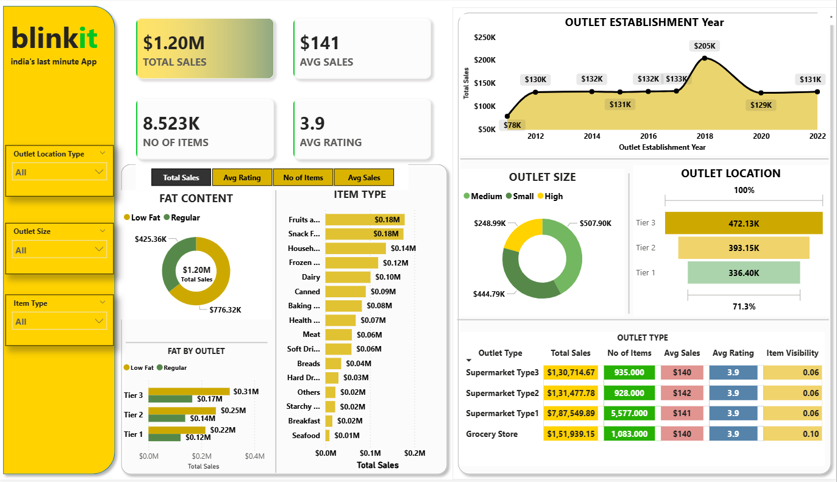

The page's visual inventory and layout, read from the dashboard file:
{"tool":"powerbi","page":{"name":"Page 1","canvas":[1400,800],"ordinal":0},"visuals":[{"type":"shape","box":[0,0,204.8,800],"z":0},{"type":"textbox","box":[16.5,22.9,161.5,78.9],"z":1000},{"type":"textbox","box":[252.5,74,205,696],"z":2000},{"type":"textbox","box":[505.5,74,205,696],"z":3000},{"type":"textbox","box":[16.5,87.8,161.5,29.3],"z":4000},{"type":"cardVisual","fields":{"Data":["BlinkIT Grocery Data.Total Sales","BlinkIT Grocery Data.Avg Sales","BlinkIT Grocery Data.No of Items","BlinkIT Grocery Data.Avg Rating"]},"box":[202.2,0,552,295.1],"z":5000},{"type":"shape","box":[197.1,264.5,562.1,535.4],"z":6000},{"type":"donutChart","title":"FAT CONTENT","fields":{"Y":["BlinkIT Grocery Data.Total Sales"],"Category":["BlinkIT Grocery Data.Item Fat Content"]},"box":[204.8,316.7,253.1,216.2],"z":7000},{"type":"slicer","fields":{"Values":["Metrix.Metrix"]},"box":[230.2,273.4,455.3,43.2],"z":8000},{"type":"cardVisual","fields":{"Data":["BlinkIT Grocery Data.Total Sales"]},"box":[288.7,424.8,87.8,62.3],"z":9000},{"type":"clusteredBarChart","title":"FAT BY OUTLET","fields":{"Y":["BlinkIT Grocery Data.Total Sales"],"Category":["BlinkIT Grocery Data.Outlet Location Type"],"Series":["BlinkIT Grocery Data.Item Fat Content"]},"box":[204.8,576.1,253.1,212.4],"z":10000},{"type":"shape","box":[213.7,566,236.6,10.2],"z":11000},{"type":"shape","box":[457.9,316.7,12.7,471.8],"z":12000},{"type":"barChart","title":"ITEM TYPE","fields":{"Y":["BlinkIT Grocery Data.Total Sales"],"Category":["BlinkIT Grocery Data.Item Type"]},"box":[464.2,311.6,281.1,476.9],"z":13000},{"type":"shape","box":[759.3,11.4,641,788.5],"z":14000},{"type":"lineChart","title":"OUTLET ESTABLISHMENT Year","fields":{"Category":["BlinkIT Grocery Data.Outlet Establishment Year"],"Y":["BlinkIT Grocery Data.Total Sales"]},"box":[772,22.9,615.6,235.3],"z":15000},{"type":"shape","box":[766.9,526.5,620.6,12.7],"z":16000},{"type":"donutChart","title":"OUTLET SIZE","fields":{"Y":["BlinkIT Grocery Data.Total Sales"],"Category":["BlinkIT Grocery Data.Outlet Size"]},"box":[772,281.1,274.7,245.5],"z":17000},{"type":"shape","box":[1046.7,288.7,14,234],"z":18000},{"type":"funnel","title":"OUTLET LOCATION","fields":{"Y":["Sum(BlinkIT Grocery Data.Sales)"],"Category":["BlinkIT Grocery Data.Outlet Location Type"]},"box":[1060.7,274.7,326.9,251.8],"z":19000},{"type":"pivotTable","title":"OUTLET TYPE","fields":{"Rows":["BlinkIT Grocery Data.Outlet Type"],"Values":["BlinkIT Grocery Data.Total Sales","BlinkIT Grocery Data.No of Items","BlinkIT Grocery Data.Avg Sales","BlinkIT Grocery Data.Avg Rating","Avg(BlinkIT Grocery Data.Item Visibility)"]},"box":[772,553.2,609.2,223.8],"z":21000},{"type":"slicer","fields":{"Values":["BlinkIT Grocery Data.Outlet Location Type"]},"box":[12.7,241.6,180.6,85.2],"z":22000},{"type":"shape","box":[772,258.2,615.6,12.7],"z":23000},{"type":"slicer","fields":{"Values":["BlinkIT Grocery Data.Outlet Size"]},"box":[12.7,371.4,180.6,85.2],"z":25000},{"type":"slicer","fields":{"Values":["BlinkIT Grocery Data.Item Type"]},"box":[12.7,490.9,180.6,85.2],"z":26000}]}

Visuals, with their boxes in screenshot pixels (x1, y1, x2, y2), scaled from the page's 1400x800 canvas onto the 837x482 screenshot:
shape: <bbox>0, 0, 122, 481</bbox>
textbox: <bbox>10, 14, 106, 61</bbox>
textbox: <bbox>151, 45, 274, 464</bbox>
textbox: <bbox>302, 45, 425, 464</bbox>
textbox: <bbox>10, 53, 106, 71</bbox>
cardVisual - BlinkIT Grocery Data.Total Sales x BlinkIT Grocery Data.Avg Sales: <bbox>121, 0, 451, 178</bbox>
shape: <bbox>118, 159, 454, 481</bbox>
"FAT CONTENT" donutChart: <bbox>122, 191, 274, 321</bbox>
slicer - Metrix.Metrix: <bbox>138, 165, 410, 191</bbox>
cardVisual - BlinkIT Grocery Data.Total Sales: <bbox>173, 256, 225, 293</bbox>
"FAT BY OUTLET" clusteredBarChart: <bbox>122, 347, 274, 475</bbox>
shape: <bbox>128, 341, 269, 347</bbox>
shape: <bbox>274, 191, 281, 475</bbox>
"ITEM TYPE" barChart: <bbox>278, 188, 446, 475</bbox>
shape: <bbox>454, 7, 836, 481</bbox>
"OUTLET ESTABLISHMENT Year" lineChart: <bbox>462, 14, 830, 156</bbox>
shape: <bbox>458, 317, 830, 325</bbox>
"OUTLET SIZE" donutChart: <bbox>462, 169, 626, 317</bbox>
shape: <bbox>626, 174, 634, 315</bbox>
"OUTLET LOCATION" funnel: <bbox>634, 166, 830, 317</bbox>
"OUTLET TYPE" pivotTable: <bbox>462, 333, 826, 468</bbox>
slicer - BlinkIT Grocery Data.Outlet Location Type: <bbox>8, 146, 116, 197</bbox>
shape: <bbox>462, 156, 830, 163</bbox>
slicer - BlinkIT Grocery Data.Outlet Size: <bbox>8, 224, 116, 275</bbox>
slicer - BlinkIT Grocery Data.Item Type: <bbox>8, 296, 116, 347</bbox>
